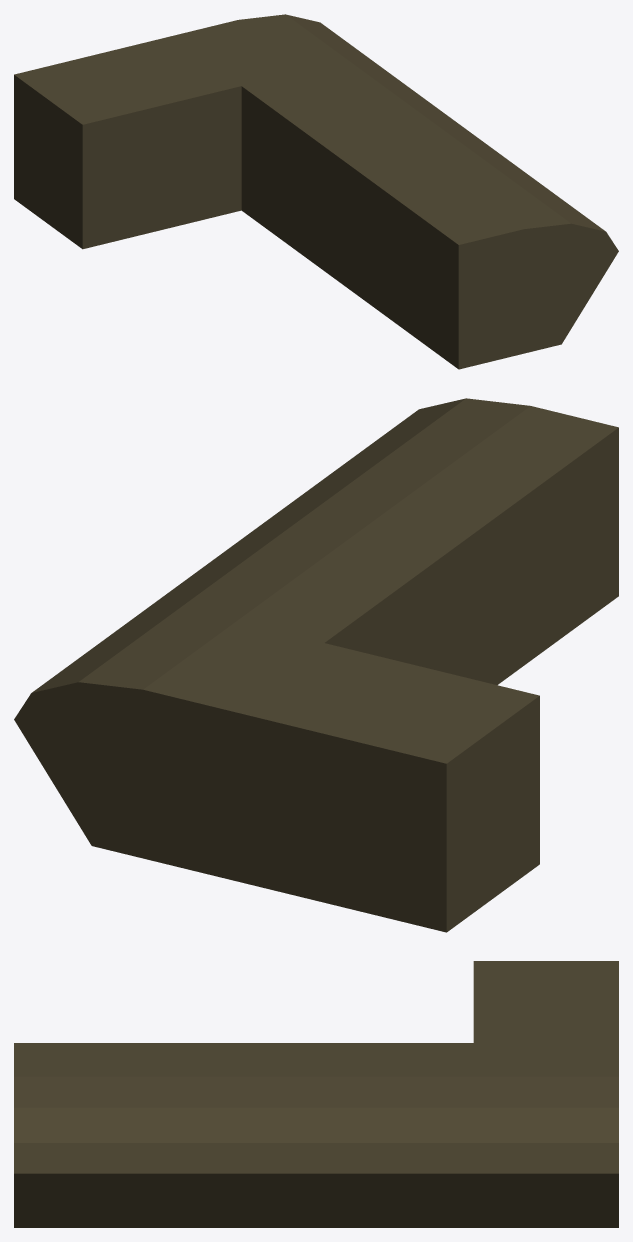
File: doorhandle.fbx
The picture shows the model from 3 angles, top to bottom: view 1: azimuth 30°, elevation 25°; view 2: azimuth 150°, elevation 25°; view 3: azimuth 270°, elevation 25°; orthographic projection. The views are drawn at different scales.
Parts seen in each view (by area): view 1: Cube.021; view 2: Cube.021; view 3: Cube.021.
Boxes of the visible parts, x1,y1,x2,y2 form: Cube.021: (14,14,618,369); Cube.021: (14,398,618,932); Cube.021: (14,961,618,1227).
Size of the model in its own units: 39.76 by 14.82 by 61.71.
